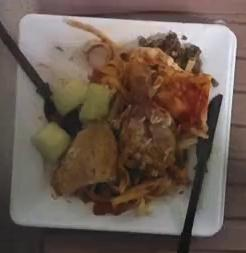chicken: (119, 47, 211, 179)
fruit: (53, 80, 113, 122), (33, 122, 71, 162)
lentils: (138, 31, 202, 72)
pasta: (86, 165, 189, 215), (68, 20, 120, 84), (113, 67, 120, 87)
pork: (52, 123, 117, 195)
